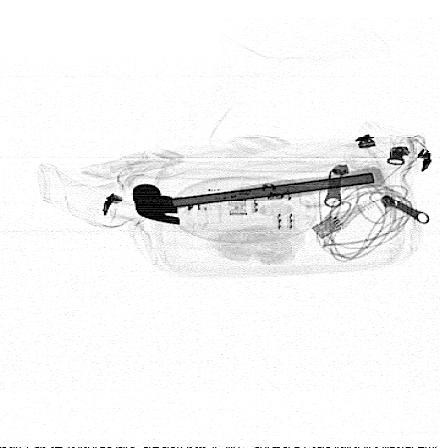Hammer: (131, 166, 389, 225)
